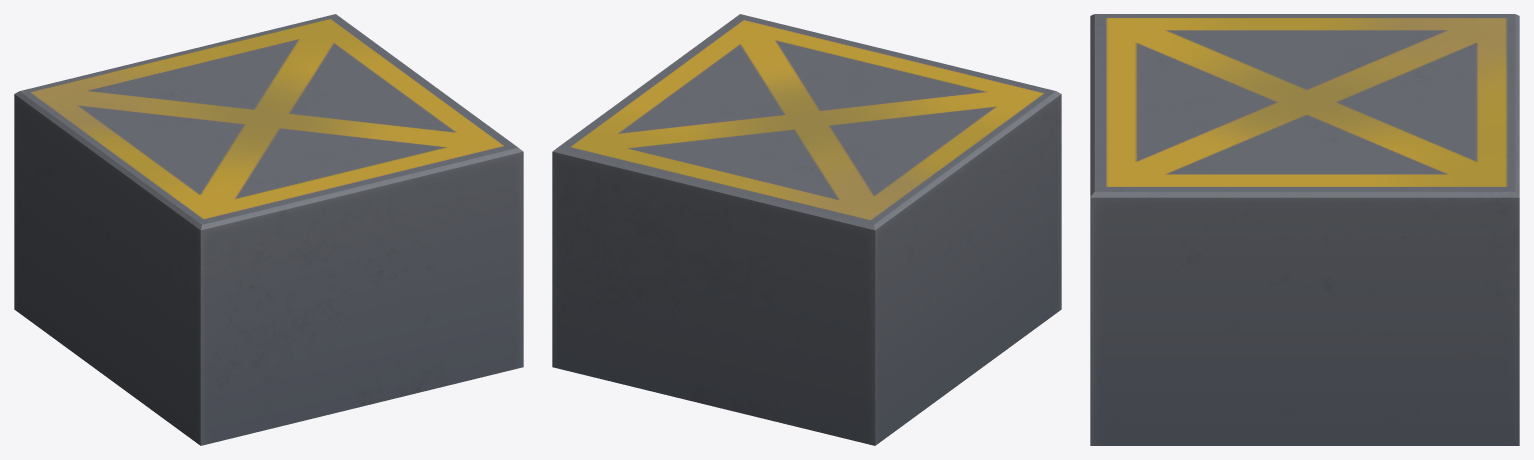
The model's file is floor_iron02.fbx.
The picture shows the model from 3 angles, left to right: view 1: azimuth 30°, elevation 25°; view 2: azimuth 150°, elevation 25°; view 3: azimuth 270°, elevation 25°; orthographic projection. The views are drawn at different scales.
Parts seen in each view (by area): view 1: floor_iron02; view 2: floor_iron02; view 3: floor_iron02.
Part boxes in pixels (bbox=[...]): floor_iron02: bbox=[14, 14, 523, 445]; floor_iron02: bbox=[552, 14, 1061, 445]; floor_iron02: bbox=[1090, 14, 1519, 445].
Size of the model in its own units: 100 by 64.82 by 100.
Materials: 1 (1 with a texture image).
